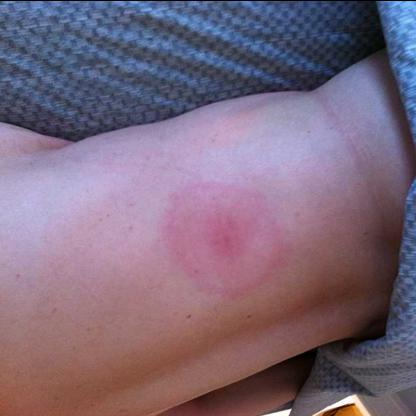Tick: (158, 180, 294, 302)
